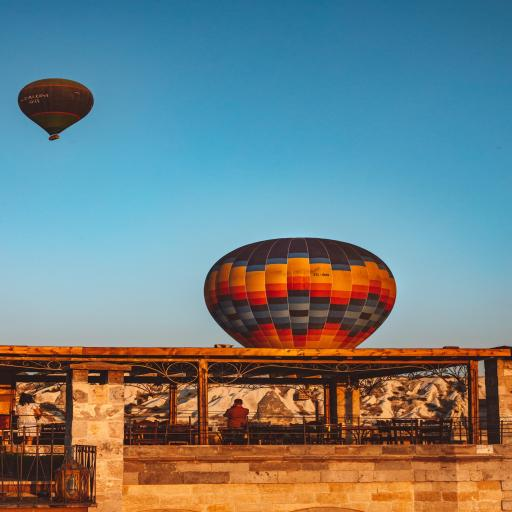hot air ballon: (204, 238, 396, 348), (18, 78, 94, 141)
